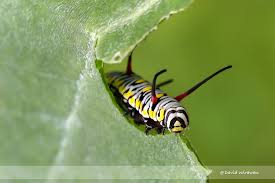Caterpillar: (103, 44, 233, 136)
